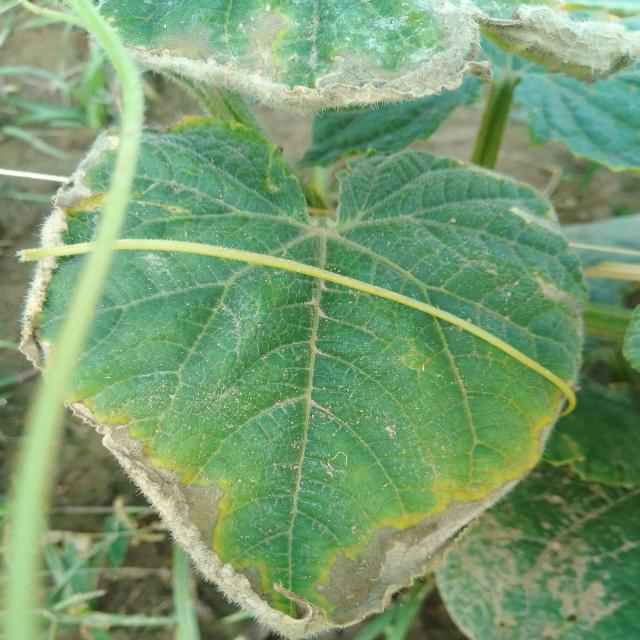cucumber_gummy: (18, 119, 589, 640), (82, 0, 640, 123), (430, 388, 640, 640)
